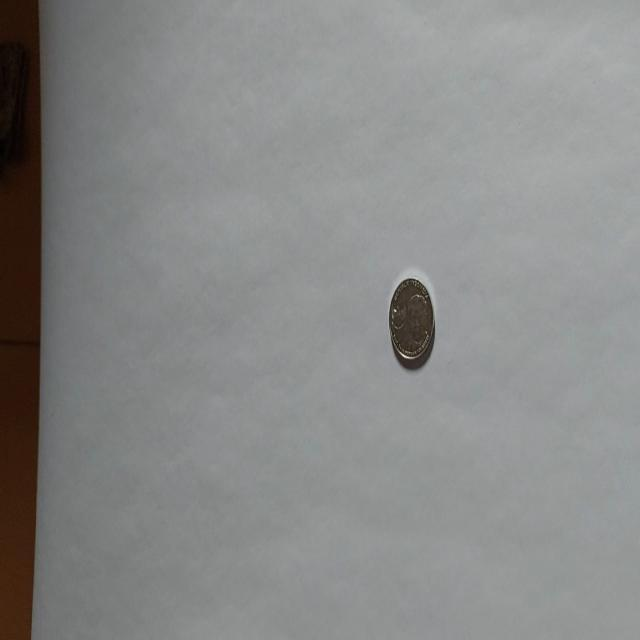seratus rupiah: (387, 276, 435, 368)
